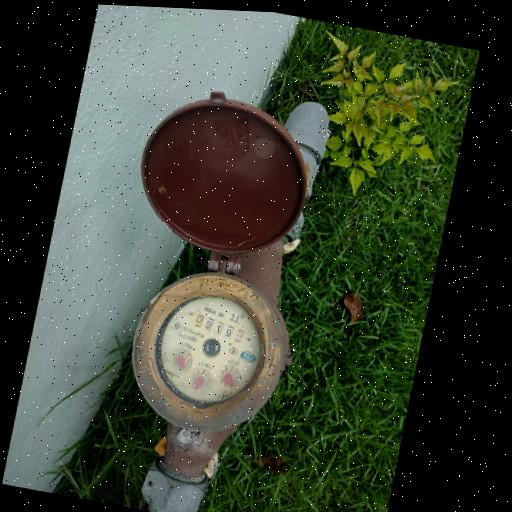0: (194, 313, 205, 328)
1: (213, 321, 224, 336)
5: (232, 329, 244, 344)
9: (203, 317, 215, 332), (223, 325, 235, 340)
border_water_meter_number: (190, 313, 246, 344)
